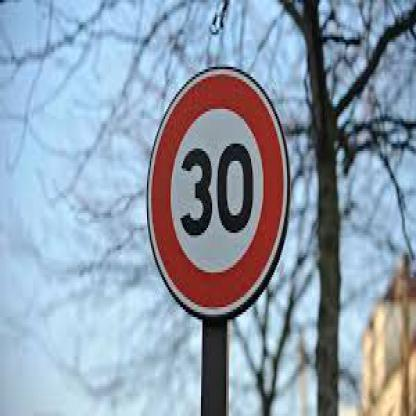Speed Limit 30: (148, 69, 288, 313)
